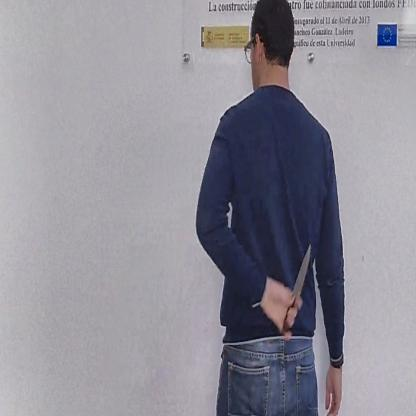knife: (278, 235, 315, 340)
